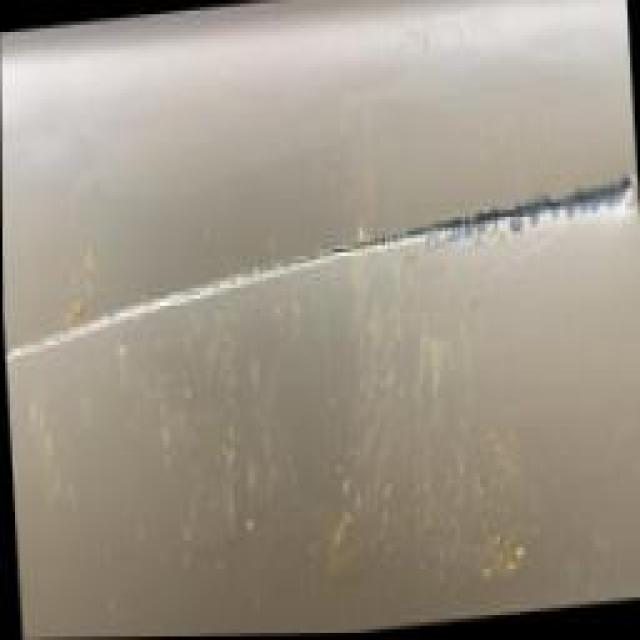Bumper: (0, 92, 639, 640)
